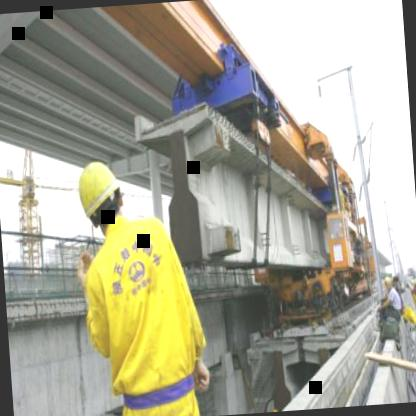helmet: (68, 148, 134, 242)
